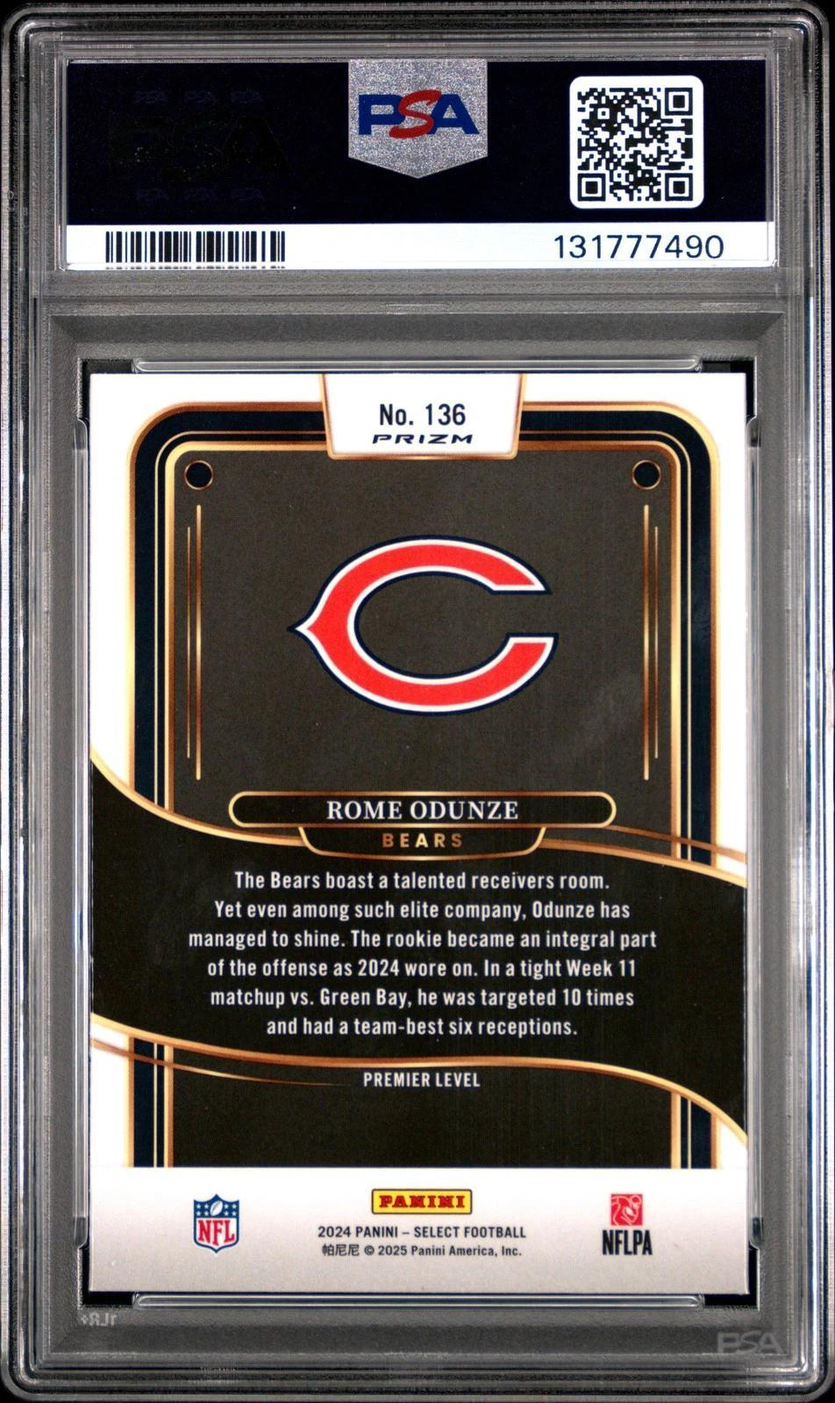card-2UtV: (88, 372, 750, 1295)
